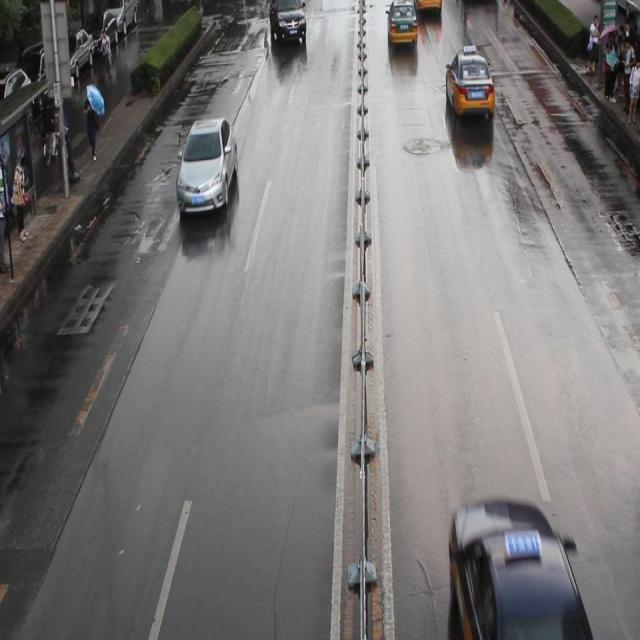car: (447, 495, 593, 640), (175, 115, 238, 212), (444, 50, 494, 117), (268, 1, 306, 40), (386, 1, 417, 45), (413, 1, 440, 13)
